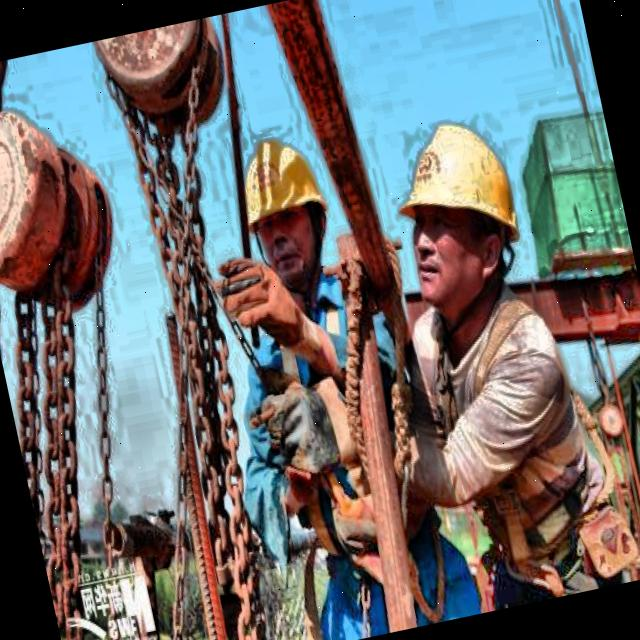helmet: (368, 86, 548, 336), (219, 114, 351, 314)
